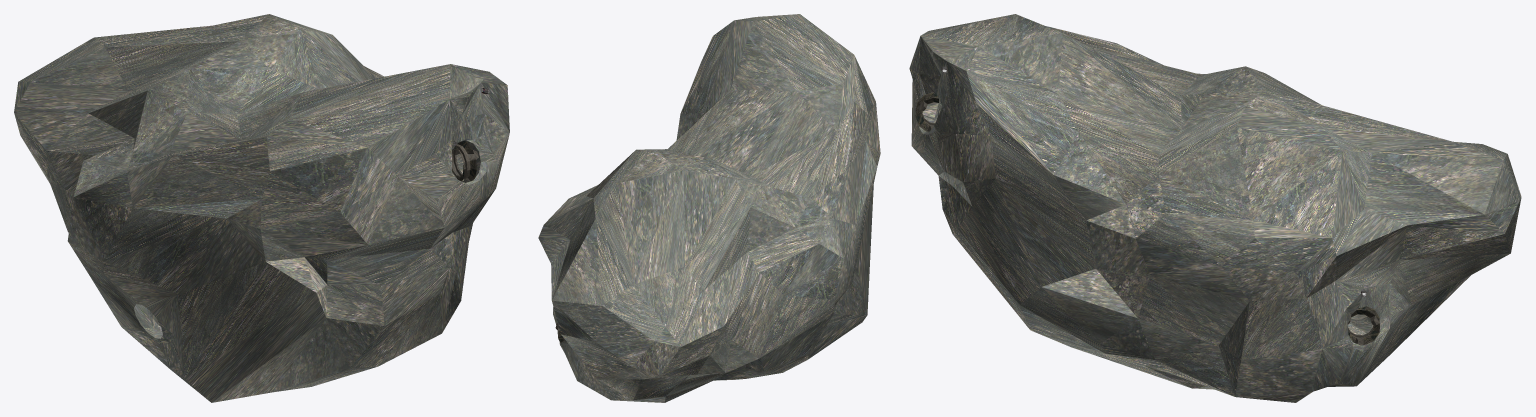
Rendered from CO_BASE_ROCK_LARGE02-2.fbx.
3 views of the same model, side by side, from view 1: azimuth 30°, elevation 25°; view 2: azimuth 150°, elevation 25°; view 3: azimuth 270°, elevation 25° (orthographic). The views are drawn at different scales.
Parts seen in each view (by area): view 1: CO_BASE_ROCK_LARGE02-2_ms3d_mo; view 2: CO_BASE_ROCK_LARGE02-2_ms3d_mo; view 3: CO_BASE_ROCK_LARGE02-2_ms3d_mo.
Part boxes in pixels (<box>): CO_BASE_ROCK_LARGE02-2_ms3d_mo: <box>14,14,509,402</box>; CO_BASE_ROCK_LARGE02-2_ms3d_mo: <box>538,14,880,402</box>; CO_BASE_ROCK_LARGE02-2_ms3d_mo: <box>909,14,1521,402</box>.
Bounding box in the file's own units: 11.65 × 11.62 × 18.32.
